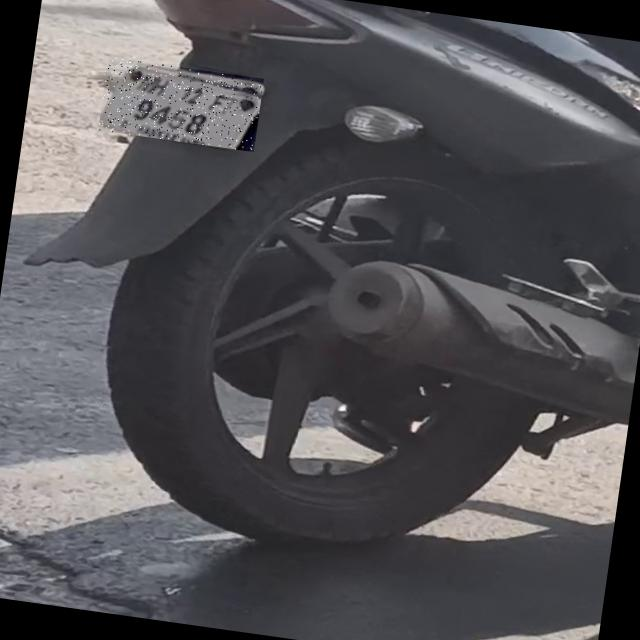Plate: (99, 58, 265, 153)
